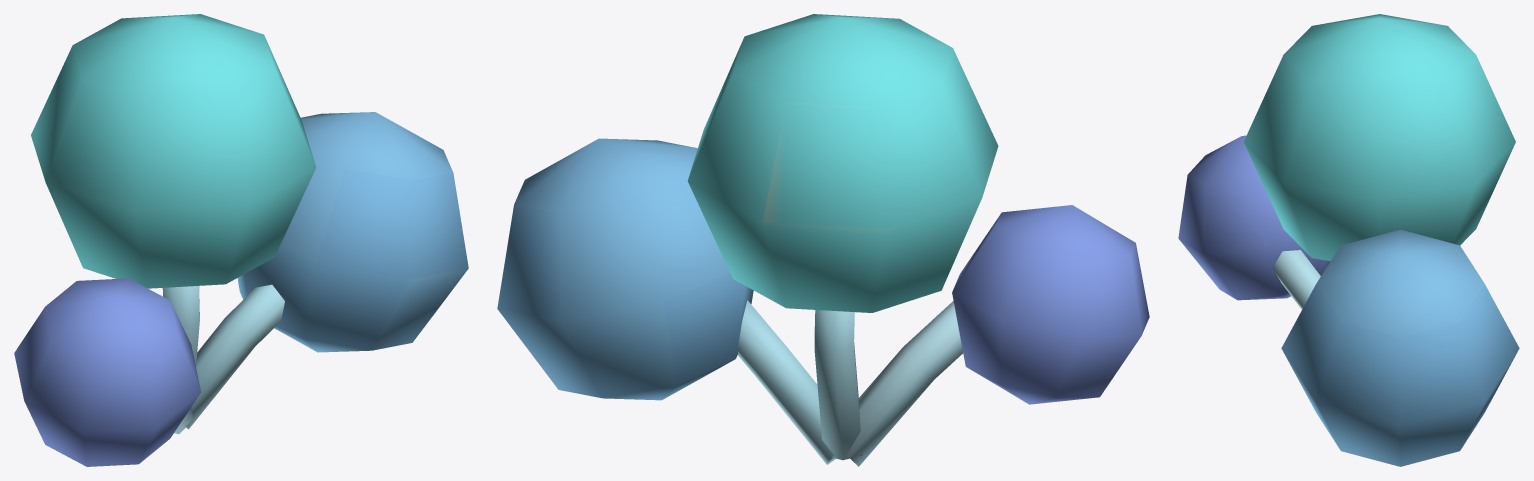
Rendered from StygeaShroom1.gltf.
3 views of the same model, side by side, from view 1: azimuth 30°, elevation 25°; view 2: azimuth 150°, elevation 25°; view 3: azimuth 270°, elevation 25° (orthographic). The views are drawn at different scales.
Parts seen in each view (by area): view 1: SchroomPlantV1Stem; view 2: SchroomPlantV1Stem; view 3: SchroomPlantV1Stem.
Part boxes in pixels (x1,y1,x2,y2): SchroomPlantV1Stem: (14,14,468,466); SchroomPlantV1Stem: (497,14,1149,466); SchroomPlantV1Stem: (1178,14,1519,466).
Bounding box in the file's own units: 0.3772 × 0.294 × 0.2399.
1 material, 1 textured.
